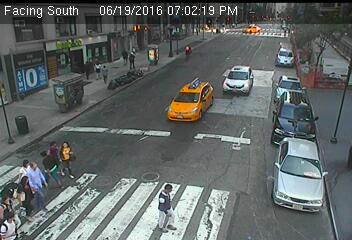neg: (70, 93, 89, 119), (3, 132, 18, 152), (58, 98, 72, 117), (24, 102, 37, 120)
pos: (144, 178, 183, 230), (126, 51, 140, 71), (99, 64, 113, 83)
